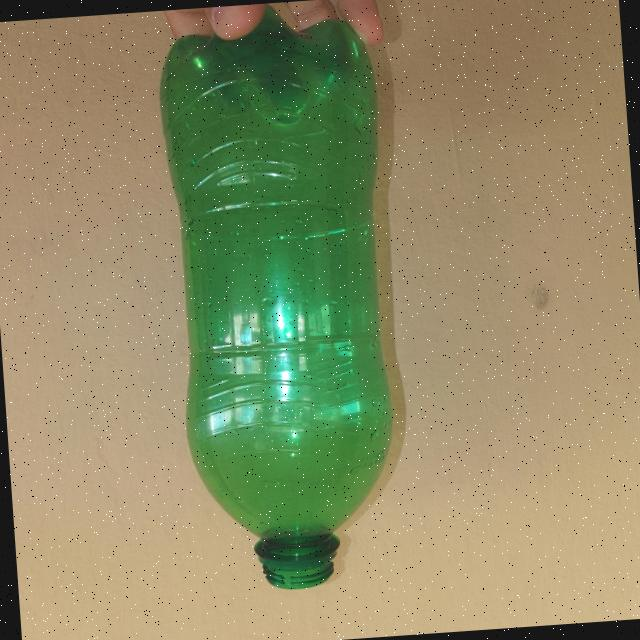bottle: (128, 7, 464, 614)
